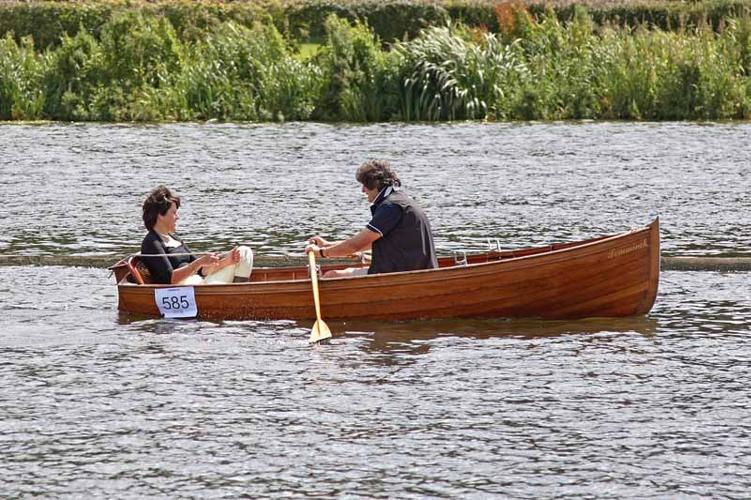person: (304, 159, 441, 279)
